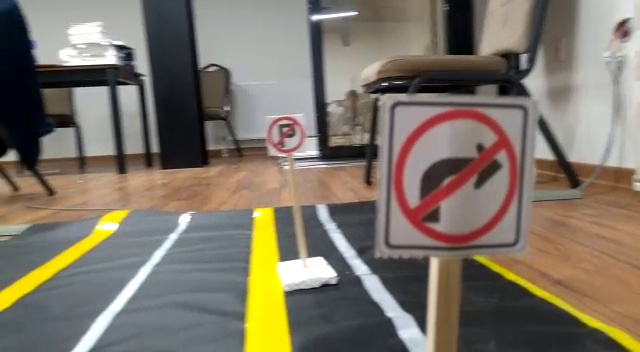park_yapilmaz: (264, 118, 305, 153)
saga_donulmez: (386, 100, 519, 250)
